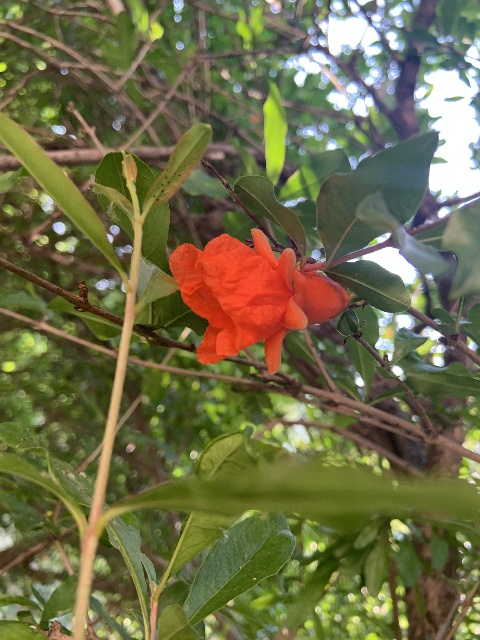flower: (169, 227, 349, 372)
